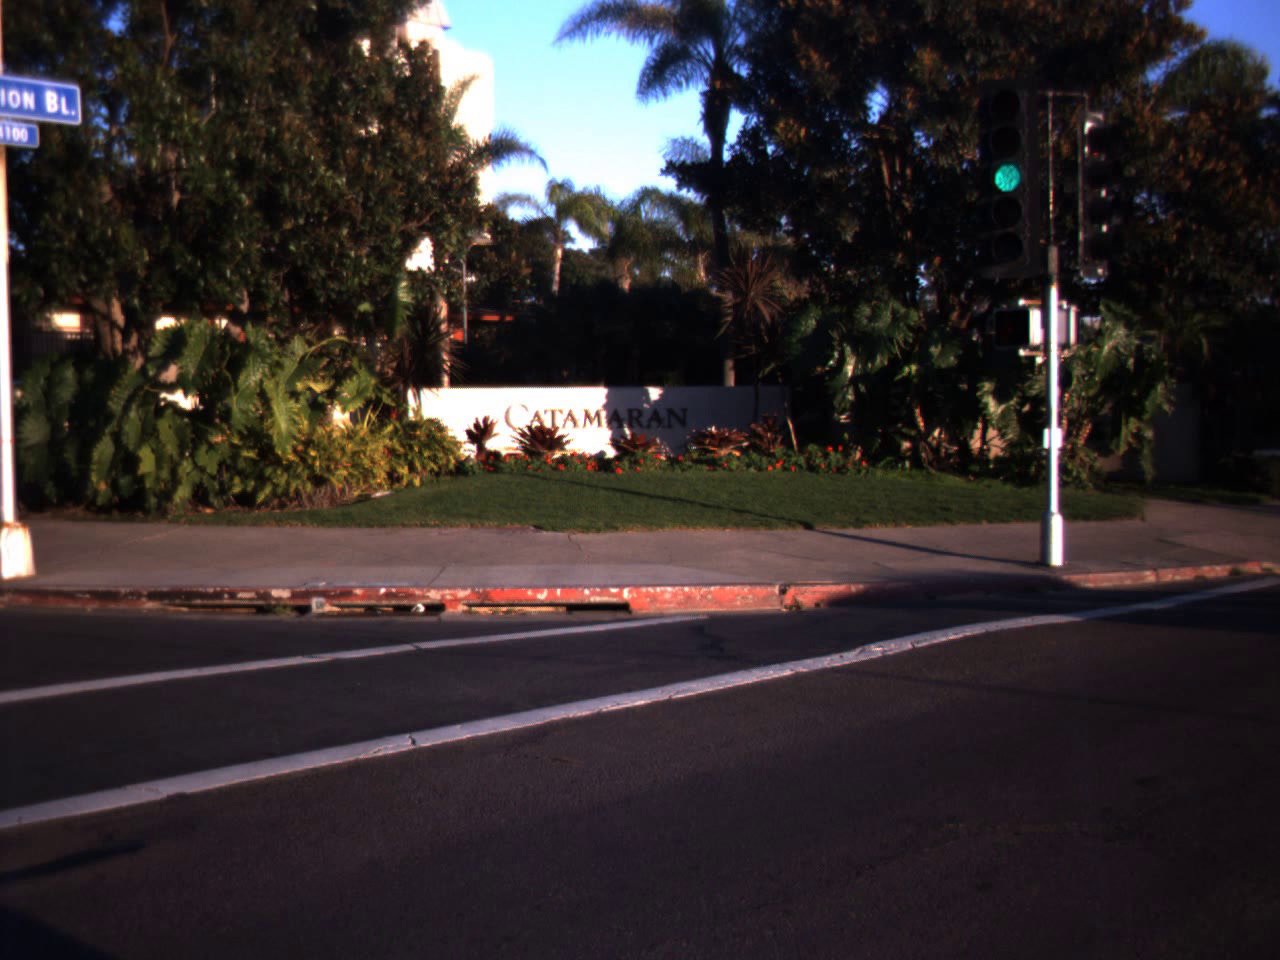green_light: (983, 79, 1031, 201)
